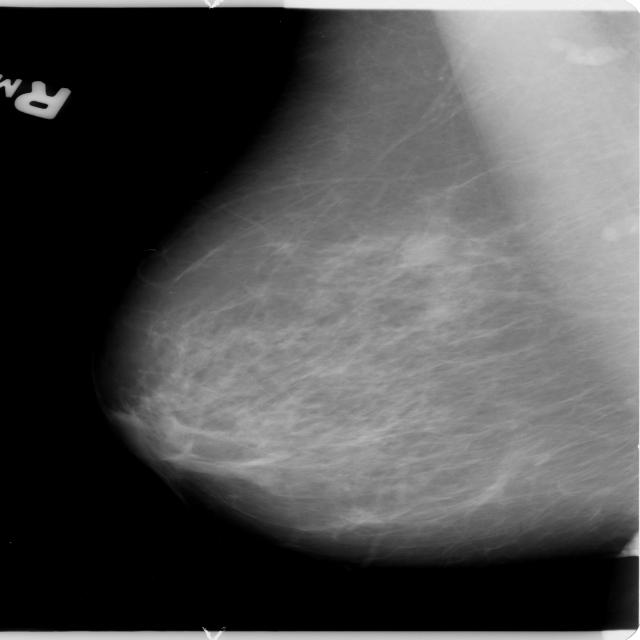normal: (69, 70, 640, 590)
